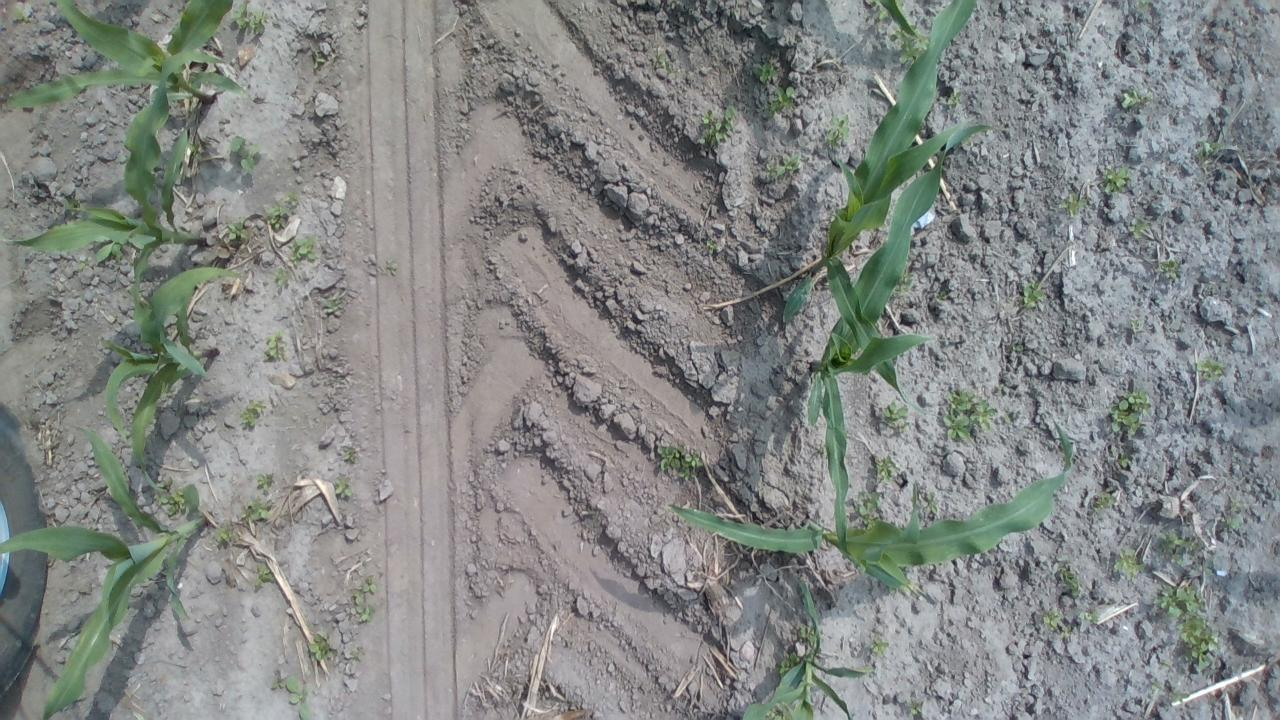Maize: (670, 364, 1078, 594), (810, 124, 1006, 564), (780, 0, 979, 407), (0, 50, 234, 356), (0, 416, 202, 720), (101, 248, 241, 492), (0, 0, 247, 97), (735, 574, 873, 720)
Weeds: (1153, 583, 1222, 675), (942, 383, 1013, 444), (1106, 390, 1152, 436), (656, 444, 704, 483), (1155, 528, 1198, 568), (888, 28, 931, 65), (345, 573, 377, 622), (263, 190, 300, 231), (698, 105, 736, 144), (226, 134, 264, 173), (230, 0, 268, 34), (285, 674, 313, 720), (286, 234, 322, 266), (854, 490, 882, 531), (306, 630, 338, 664), (881, 399, 912, 432), (1114, 548, 1144, 582), (760, 86, 796, 114), (94, 235, 125, 267), (1056, 564, 1084, 598), (766, 152, 802, 178), (824, 114, 850, 150), (654, 46, 686, 75), (1021, 278, 1046, 313), (876, 454, 906, 483), (771, 651, 802, 679), (264, 329, 290, 362), (241, 498, 278, 521), (238, 398, 268, 426), (158, 488, 186, 518), (1195, 357, 1227, 382), (212, 516, 239, 545), (751, 62, 785, 84), (1121, 88, 1155, 110), (1102, 166, 1128, 194), (865, 632, 890, 661), (1057, 194, 1087, 218), (1038, 605, 1064, 632), (1196, 136, 1226, 158), (1106, 443, 1132, 468), (1090, 490, 1118, 512), (1158, 258, 1183, 282), (766, 702, 799, 720), (253, 561, 276, 586), (228, 216, 250, 242), (870, 1, 893, 25), (333, 472, 353, 499), (920, 488, 940, 514), (318, 292, 342, 313), (1128, 218, 1150, 240), (272, 264, 291, 289), (8, 4, 32, 23), (894, 272, 914, 294), (254, 470, 274, 491), (64, 192, 80, 218), (798, 622, 816, 645), (1076, 610, 1100, 625), (1167, 690, 1189, 706), (1220, 515, 1242, 529), (78, 254, 95, 272), (269, 674, 286, 691), (312, 48, 325, 70), (1128, 318, 1144, 335), (946, 89, 962, 105), (1148, 679, 1163, 694), (1230, 498, 1246, 512), (343, 445, 355, 462), (706, 238, 718, 255), (909, 704, 923, 718), (1136, 0, 1150, 13), (1060, 626, 1072, 640), (1009, 342, 1024, 352), (386, 258, 396, 272), (936, 291, 946, 300), (960, 137, 971, 145), (136, 713, 148, 720), (105, 0, 114, 7)
